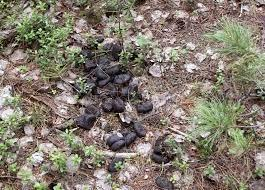Elk: (80, 49, 138, 137)
